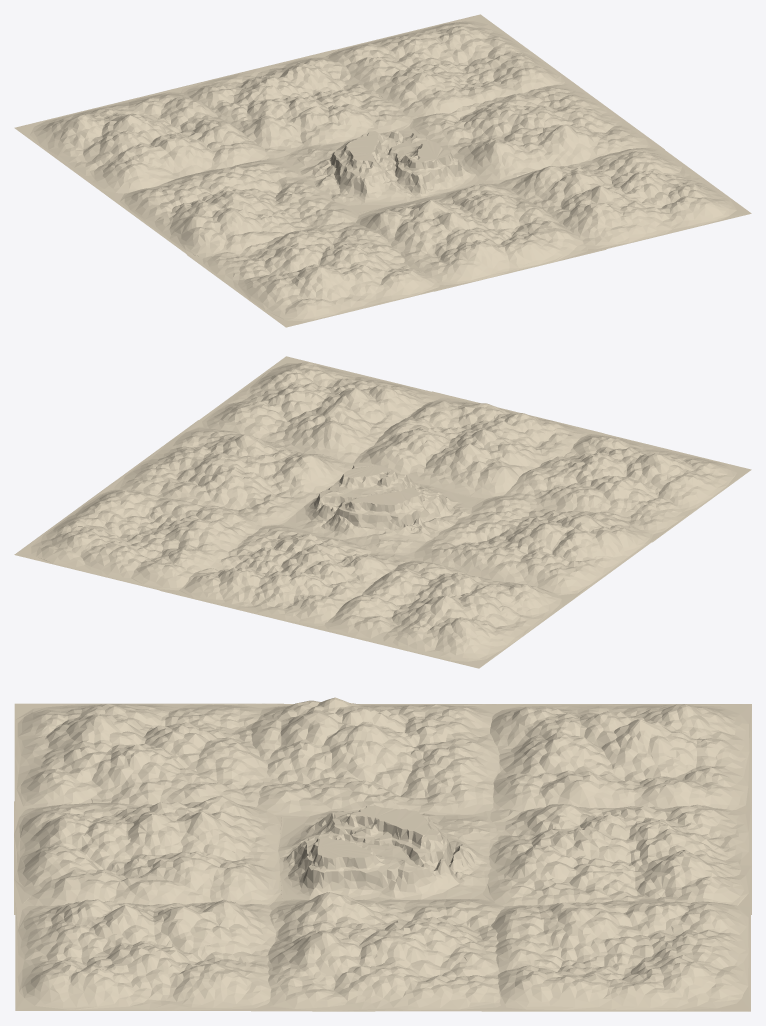
Rendered from env.gltf.
3 renders of one model, top to bottom at view 1: azimuth 30°, elevation 25°; view 2: azimuth 150°, elevation 25°; view 3: azimuth 270°, elevation 25°, orthographic. The views are drawn at different scales.
Parts seen in each view (by area): view 1: Landscape.010, Landscape.014, Landscape.013, Landscape.011, Landscape.008, Landscape.012, Landscape.009, Landscape.003, Landscape.002; view 2: Landscape.010, Landscape.008, Landscape.012, Landscape.013, Landscape.011, Landscape.014, Landscape.009, Landscape.003, Landscape.002; view 3: Landscape.008, Landscape.013, Landscape.010, Landscape.011, Landscape.009, Landscape.012, Landscape.003, Landscape.014, Landscape.002.
Part boxes in pixels (bbox=[...]): Landscape.010: bbox=[14, 89, 269, 199]; Landscape.014: bbox=[187, 222, 452, 327]; Landscape.013: bbox=[498, 146, 751, 254]; Landscape.011: bbox=[356, 182, 606, 291]; Landscape.008: bbox=[320, 14, 577, 118]; Landscape.012: bbox=[105, 158, 361, 260]; Landscape.009: bbox=[407, 82, 664, 183]; Landscape.003: bbox=[167, 50, 412, 160]; Landscape.002: bbox=[279, 127, 481, 212]; Landscape.010: bbox=[316, 560, 575, 668]; Landscape.008: bbox=[14, 484, 262, 593]; Landscape.012: bbox=[411, 495, 659, 601]; Landscape.013: bbox=[198, 356, 454, 463]; Landscape.011: bbox=[352, 391, 603, 499]; Landscape.014: bbox=[504, 428, 751, 542]; Landscape.009: bbox=[107, 420, 353, 526]; Landscape.003: bbox=[160, 525, 414, 631]; Landscape.002: bbox=[283, 462, 479, 555]; Landscape.008: bbox=[482, 897, 750, 1011]; Landscape.013: bbox=[15, 898, 276, 1010]; Landscape.010: bbox=[483, 704, 751, 813]; Landscape.011: bbox=[14, 795, 283, 914]; Landscape.009: bbox=[251, 892, 504, 1011]; Landscape.012: bbox=[246, 697, 505, 817]; Landscape.003: bbox=[483, 802, 751, 914]; Landscape.014: bbox=[14, 703, 283, 815]; Landscape.002: bbox=[278, 805, 504, 901].
Bounding box in the file's own units: 108 × 6.19 × 110.
